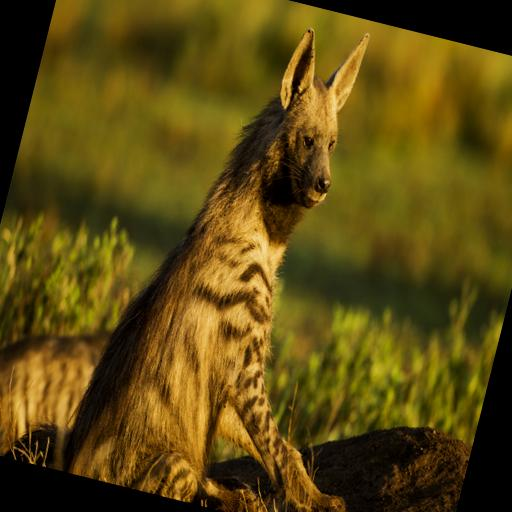hyenas: (38, 0, 512, 512)
